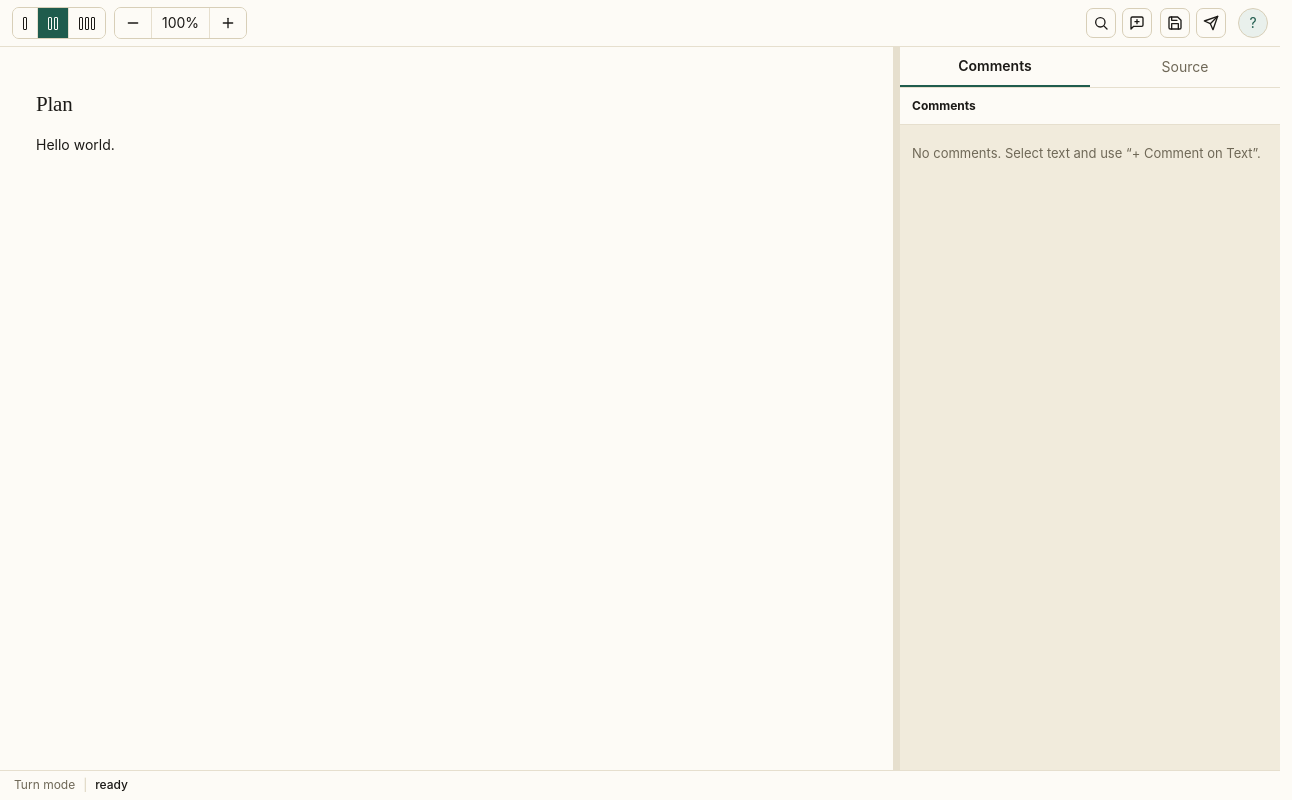
Test case: App preview context menu (item 3) › right-click opens a menu with the five items
Expected: the menu item "comment on doc" is not shown
Right-click the element with class "ap-rendered" at (54, 104), box [36, 92, 115, 153]
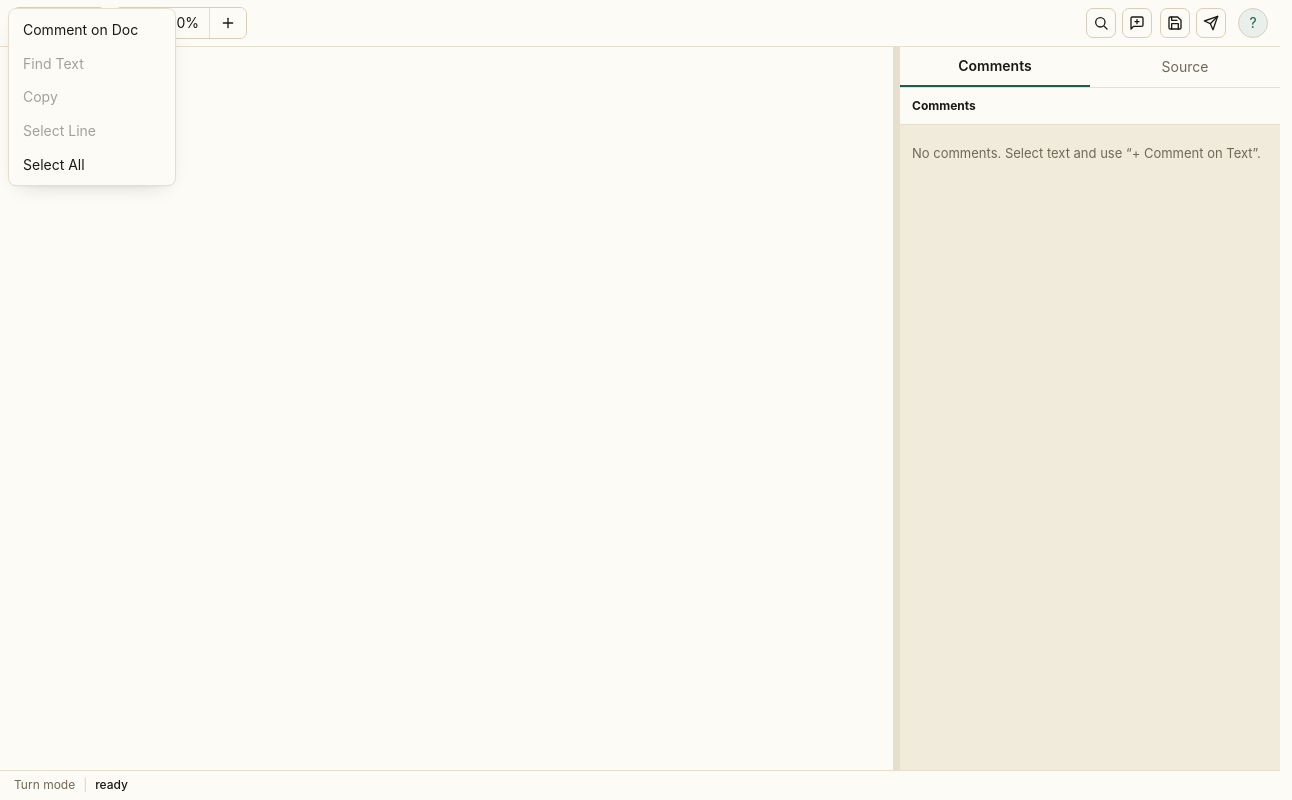
Expected: the menu item "Comment on Doc" is shown, [13, 13, 171, 47]
Expected: the menu item "Find Text" is shown, [13, 47, 171, 80]
Expected: the menu item "Copy" is shown, [13, 80, 171, 114]
